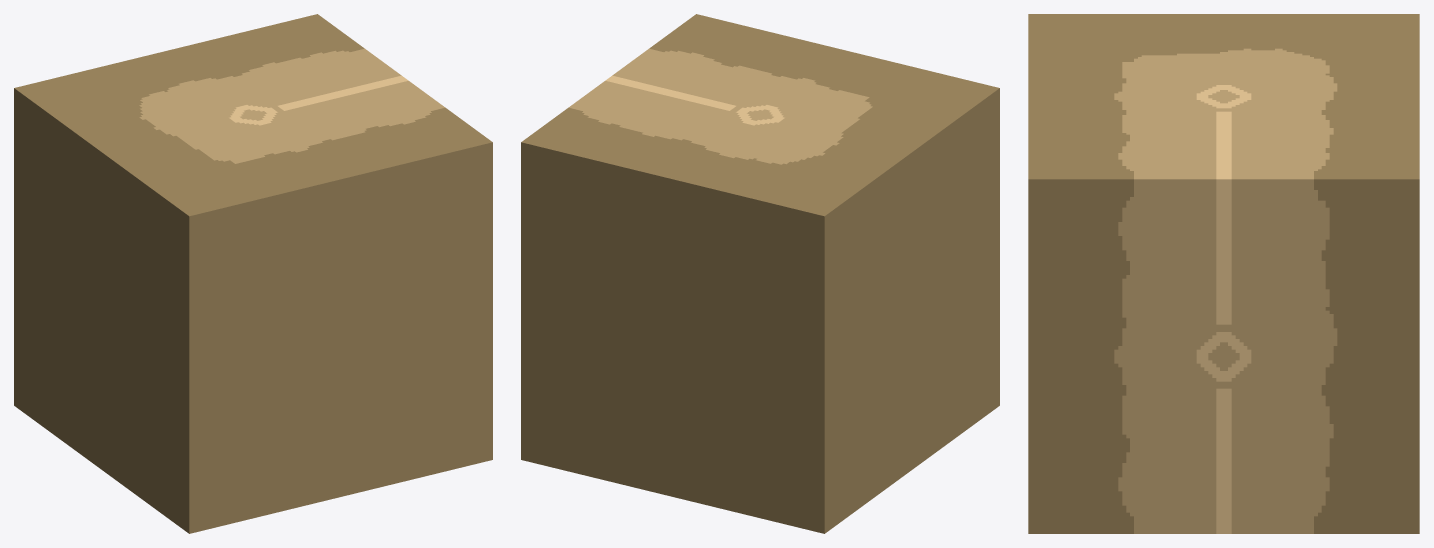
Rendered from floor1_wallx2a.obj.
The picture shows the model from 3 angles, left to right: view 1: azimuth 30°, elevation 25°; view 2: azimuth 150°, elevation 25°; view 3: azimuth 270°, elevation 25°; orthographic projection. The views are drawn at different scales.
Visible parts, largest first — view 1: floor1_wallx2a; view 2: floor1_wallx2a; view 3: floor1_wallx2a.
Boxes of the visible parts, left/top/right/bottom form: floor1_wallx2a: left=14, top=14, right=492, bottom=533; floor1_wallx2a: left=521, top=14, right=999, bottom=533; floor1_wallx2a: left=1028, top=14, right=1419, bottom=533.
Size of the model in its own units: 100 by 100 by 100.
1 material, 1 textured.
